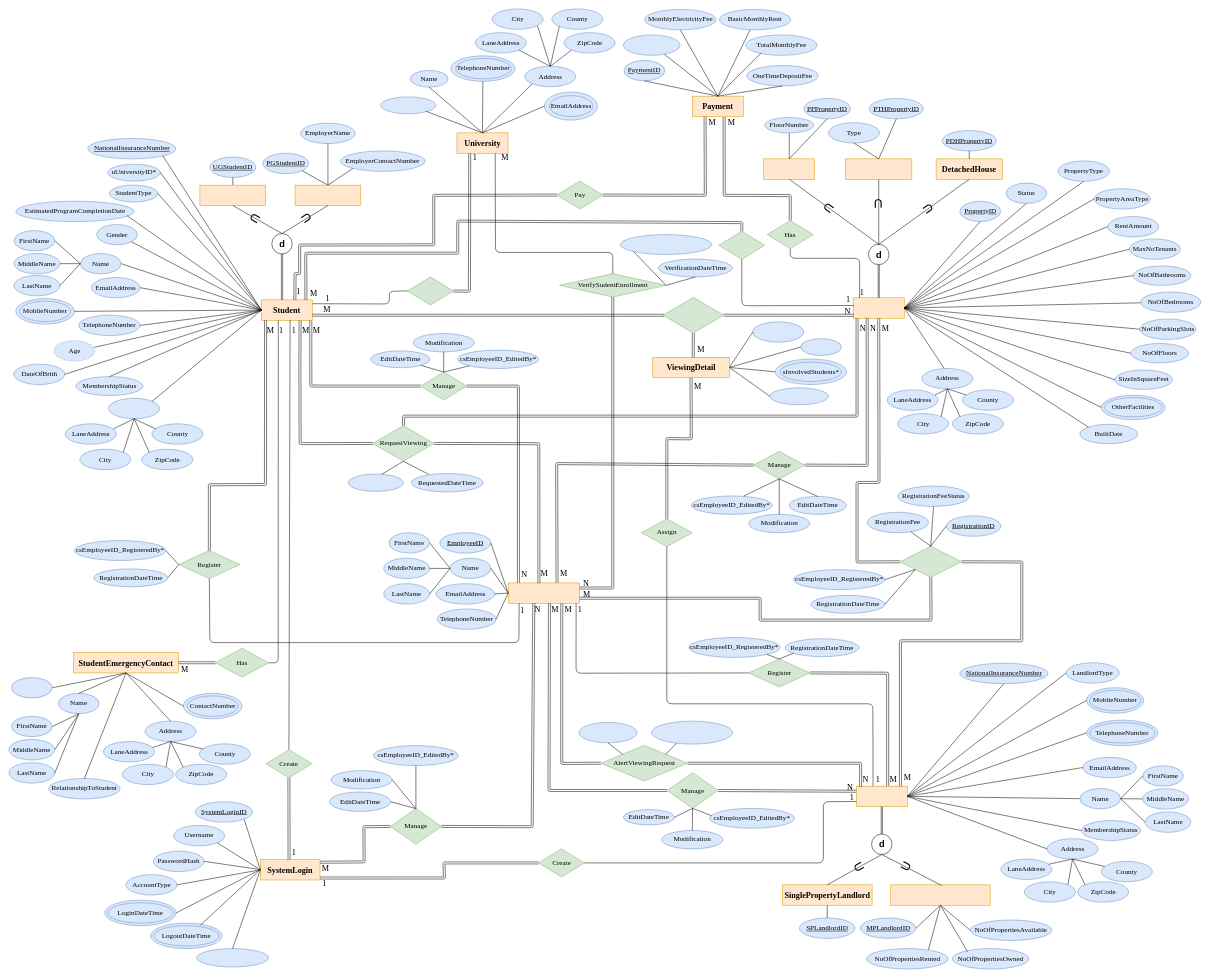
Some shapes in this 1210 by 978 pixel diagram are drawn without their labels. The centre of each missing label's shape, as x and y in pixels:
"AlertDateTime" belongs at point 607,732.
"CreationDateTime" belongs at point 232,957.
"csEmployeeID_AlerterBy*" belongs at point 692,732.
"csEmployeeID_VerifiedBy*" belongs at point 666,244.
"CurrentAddress" belongs at point 134,408.
"CustomerService" belongs at point 544,592.
"Date" belongs at point 821,346.
"Enrolled" belongs at point 430,290.
"Flat" belongs at point 789,168.
"Landlord" belongs at point 881,796.
"lAssignedBy*" belongs at point 798,396.
"MonthlyWaterFee" belongs at point 651,44.
"MultiplePropertyLandlord" belongs at point 940,894.
"Postgraduate" belongs at point 328,195.
"Property" belongs at point 878,307.
"RegisterProperty" belongs at point 930,561.
"Rent" belongs at point 741,245.
"SECID" belongs at point 31,687.
"sRequestedBy*" belongs at point 375,482.
"TerracedHouse" belongs at point 878,168.
"Undergraduate" belongs at point 232,195.
"UniversityID" belongs at point 408,105.
"ViewingID" belongs at point 778,331.
"ViewingProperty" belongs at point 693,315.
